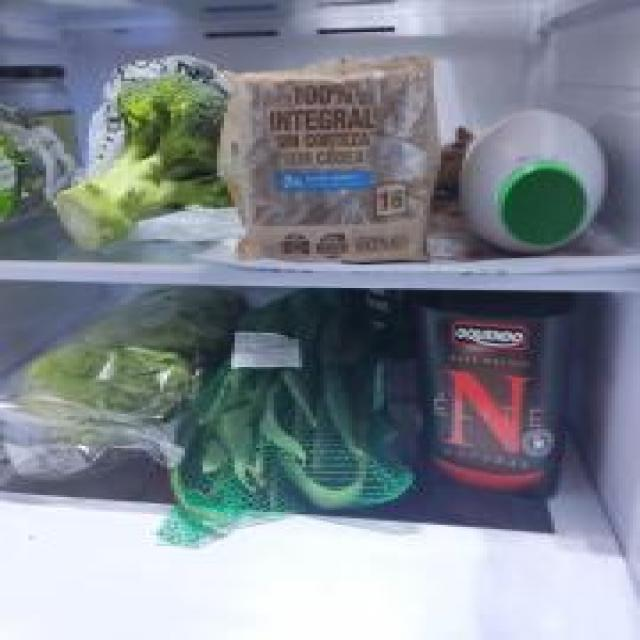bread: (220, 51, 434, 262)
broccoli: (53, 70, 235, 252)
green_beans: (169, 289, 418, 534)
milk: (457, 107, 610, 250)
salad: (4, 287, 238, 466)
